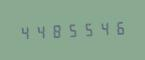eight: (49, 21, 64, 40)
five: (65, 20, 80, 39), (81, 19, 96, 38)
four: (17, 22, 32, 42), (33, 22, 48, 41), (97, 18, 112, 37)
six: (113, 17, 128, 37)
